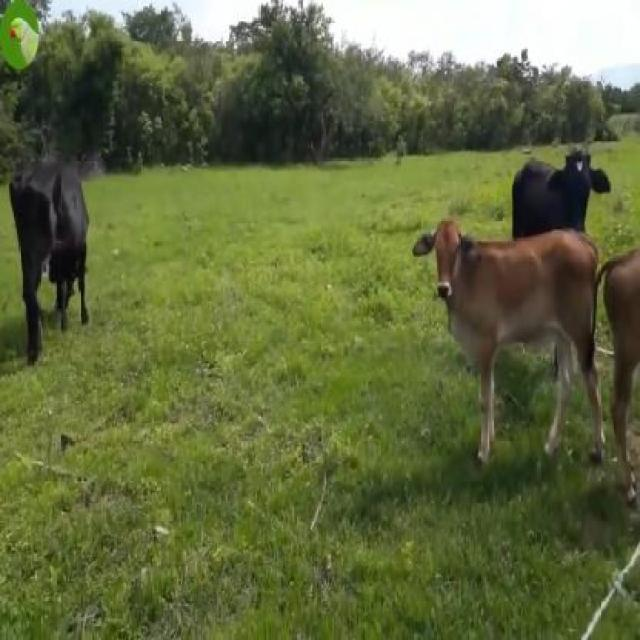Cow: (416, 217, 606, 466), (9, 162, 92, 346)
